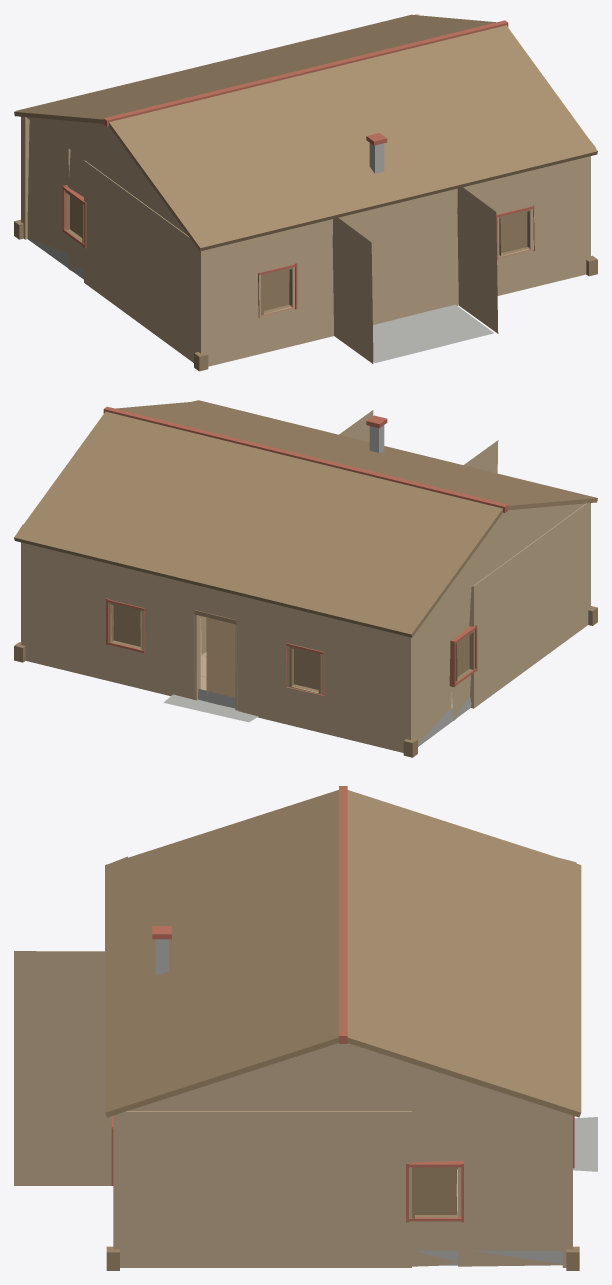
Rendered from 18-Casas_casa_casona.glb.
3 views of the same model, one above another, from view 1: azimuth 30°, elevation 25°; view 2: azimuth 150°, elevation 25°; view 3: azimuth 270°, elevation 25° (orthographic). The views are drawn at different scales.
Visible parts, largest first — view 1: SM_Zocalo_M_Casa_Acento_Casa_Madera_Oscura_Casa_Paja_Clara_C, SM_Zocalo_M_Casa_Madera_Clara, SM_Zocalo_M_Casa_Piedra, SM_Zocalo_M_Casa_Vidrio, SM_Zocalo_M_Casa_Madera_Oscura_Casa_Acento, SM_Zocalo_M_Casa_Piedra_Casa_Piedra_Oscura, SM_Zocalo_M_Casa_Piedra_Oscura_Casa_Bronce_Casa_Llama_Casa_P; view 2: SM_Zocalo_M_Casa_Acento_Casa_Madera_Oscura_Casa_Paja_Clara_C, SM_Zocalo_M_Casa_Madera_Clara, SM_Zocalo_M_Casa_Madera_Oscura_Casa_Acento, SM_Zocalo_M_Casa_Vidrio, SM_Zocalo_M_Casa_Madera_Oscura_Casa_Madera_Clara_Casa_Bronce, SM_Zocalo_M_Casa_Piedra_Casa_Piedra_Oscura, SM_Zocalo_M_Casa_Madera_Oscura_Casa_Piedra, SM_Zocalo_M_Casa_Piedra_Oscura_Casa_Bronce_Casa_Llama_Casa_P; view 3: SM_Zocalo_M_Casa_Acento_Casa_Madera_Oscura_Casa_Paja_Clara_C, SM_Zocalo_M_Casa_Madera_Clara, SM_Zocalo_M_Casa_Vidrio, SM_Zocalo_M_Casa_Madera_Oscura_Casa_Acento, SM_Zocalo_M_Casa_Piedra_Casa_Piedra_Oscura, SM_Zocalo_M_Casa_Madera_Oscura_Casa_Piedra, SM_Zocalo_M_Casa_Piedra_Oscura_Casa_Bronce_Casa_Llama_Casa_P.
Boxes of the visible parts, bbox=[...] form: SM_Zocalo_M_Casa_Acento_Casa_Madera_Oscura_Casa_Paja_Clara_C: bbox=[14, 14, 597, 251]; SM_Zocalo_M_Casa_Madera_Clara: bbox=[21, 116, 590, 366]; SM_Zocalo_M_Casa_Piedra: bbox=[373, 304, 493, 362]; SM_Zocalo_M_Casa_Vidrio: bbox=[70, 196, 527, 310]; SM_Zocalo_M_Casa_Madera_Oscura_Casa_Acento: bbox=[62, 185, 534, 317]; SM_Zocalo_M_Casa_Piedra_Casa_Piedra_Oscura: bbox=[14, 219, 597, 371]; SM_Zocalo_M_Casa_Piedra_Oscura_Casa_Bronce_Casa_Llama_Casa_P: bbox=[366, 133, 387, 173]; SM_Zocalo_M_Casa_Acento_Casa_Madera_Oscura_Casa_Paja_Clara_C: bbox=[14, 400, 597, 637]; SM_Zocalo_M_Casa_Madera_Clara: bbox=[21, 410, 590, 752]; SM_Zocalo_M_Casa_Madera_Oscura_Casa_Acento: bbox=[106, 598, 477, 697]; SM_Zocalo_M_Casa_Vidrio: bbox=[113, 605, 469, 689]; SM_Zocalo_M_Casa_Madera_Oscura_Casa_Madera_Clara_Casa_Bronce: bbox=[206, 617, 235, 701]; SM_Zocalo_M_Casa_Piedra_Casa_Piedra_Oscura: bbox=[14, 606, 597, 757]; SM_Zocalo_M_Casa_Madera_Oscura_Casa_Piedra: bbox=[163, 610, 258, 722]; SM_Zocalo_M_Casa_Piedra_Oscura_Casa_Bronce_Casa_Llama_Casa_P: bbox=[366, 415, 387, 452]; SM_Zocalo_M_Casa_Acento_Casa_Madera_Oscura_Casa_Paja_Clara_C: bbox=[105, 786, 581, 1117]; SM_Zocalo_M_Casa_Madera_Clara: bbox=[14, 951, 572, 1267]; SM_Zocalo_M_Casa_Vidrio: bbox=[415, 1169, 456, 1214]; SM_Zocalo_M_Casa_Madera_Oscura_Casa_Acento: bbox=[111, 1115, 574, 1222]; SM_Zocalo_M_Casa_Piedra_Casa_Piedra_Oscura: bbox=[106, 1246, 579, 1270]; SM_Zocalo_M_Casa_Madera_Oscura_Casa_Piedra: bbox=[573, 1117, 597, 1171]; SM_Zocalo_M_Casa_Piedra_Oscura_Casa_Bronce_Casa_Llama_Casa_P: bbox=[152, 926, 171, 975].
Size of the model in its own units: 10.3 by 4.53 by 10.17.
